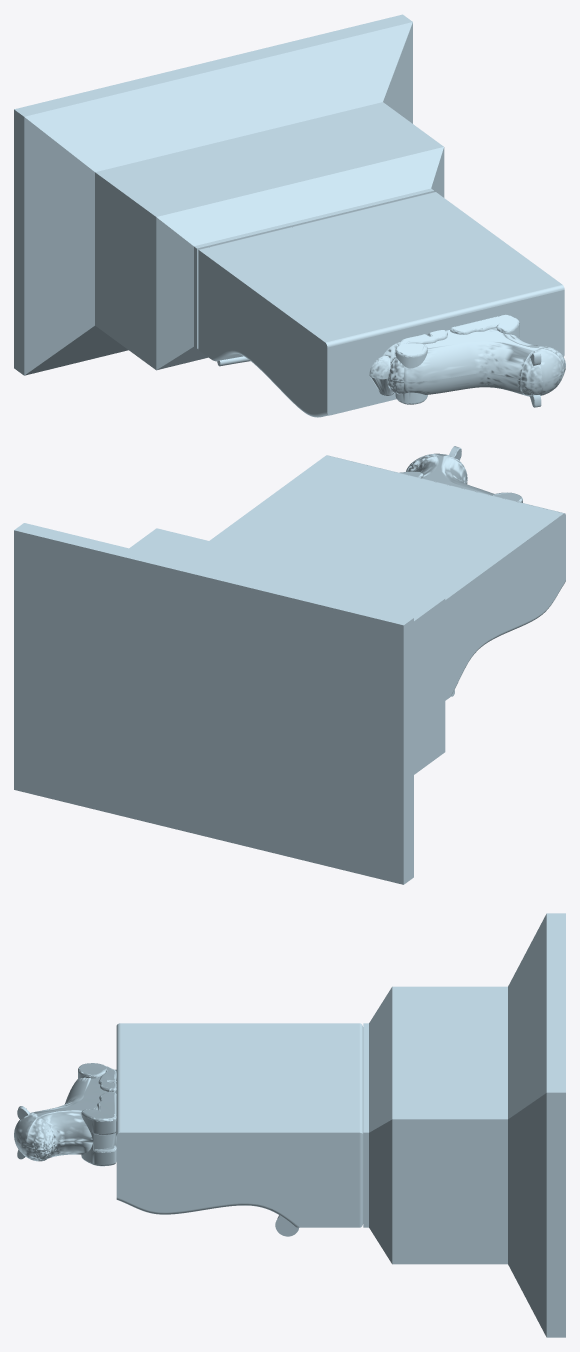
3 renders of one model, top to bottom at view 1: azimuth 30°, elevation 25°; view 2: azimuth 150°, elevation 25°; view 3: azimuth 270°, elevation 25°, orthographic. The views are drawn at different scales.
Parts seen in each view (by area): view 1: PA-338-F_LOD0; view 2: PA-338-F_LOD0; view 3: PA-338-F_LOD0.
Part boxes in pixels (x1,y1,x2,y2): PA-338-F_LOD0: [14, 14, 565, 417]; PA-338-F_LOD0: [14, 446, 565, 884]; PA-338-F_LOD0: [14, 913, 565, 1337].
Size of what is drawn, in the model's own units: 55.88 by 35.56 by 72.63.
